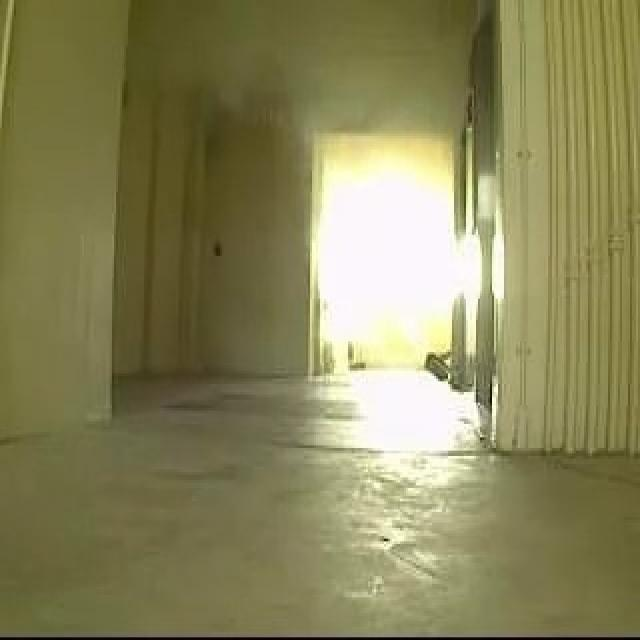smoke: (151, 10, 355, 154)
